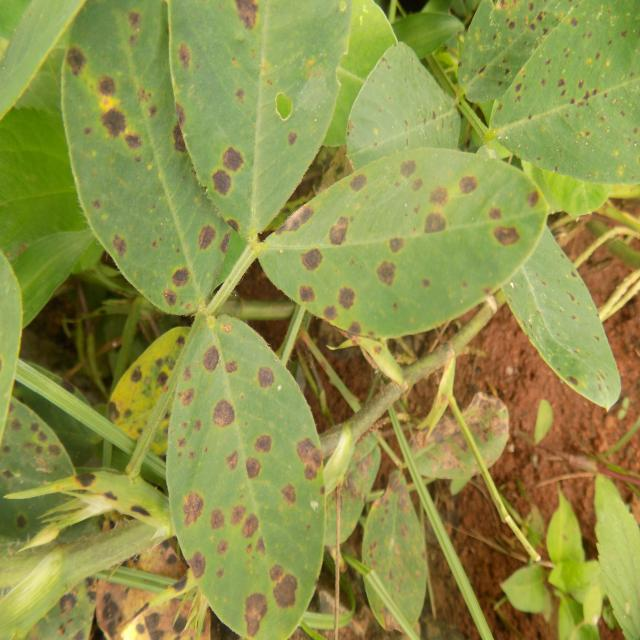Ground nut_tikka leaf spot: (255, 143, 547, 344), (59, 0, 238, 312), (164, 310, 330, 640)
